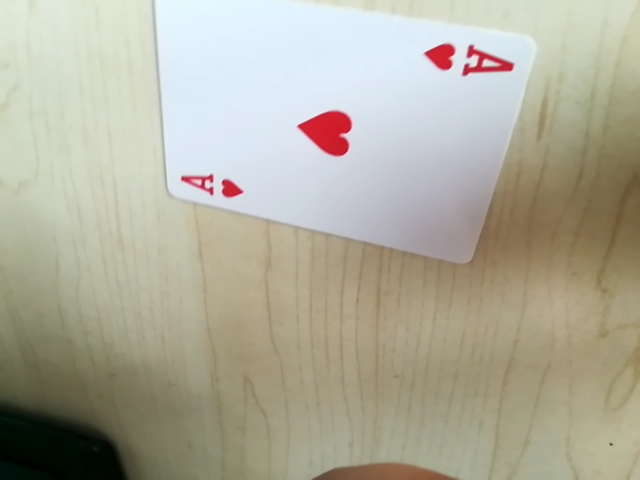hx a: (420, 31, 519, 89), (176, 163, 250, 202)
